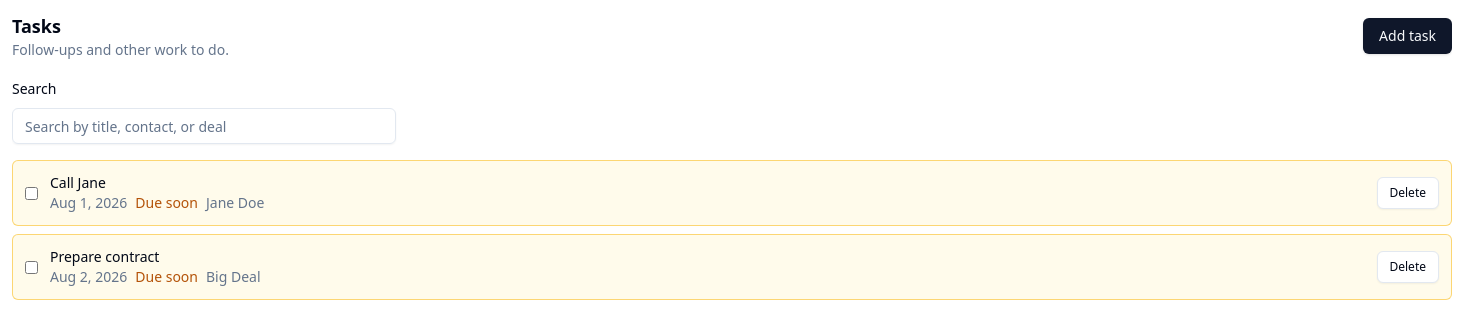
Scenario: TasksPage › filters visible tasks by search
This screenshot has width=1464, height=317.
Expected: the button "Call Jane" is shown, top-left (50, 173), bottom-right (106, 193)
Type "Big Deal" into the field labelled "Search". click: (204, 126)
box: top-left (12, 108), bottom-right (396, 144)
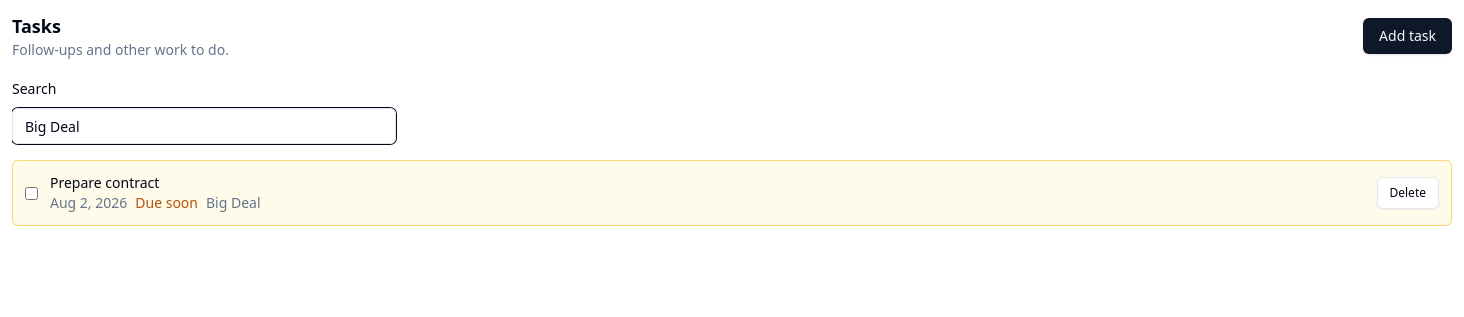
Expected: the button "Prepare contract" is shown, top-left (50, 173), bottom-right (159, 193)
Now the button "Call Jane" is gone
